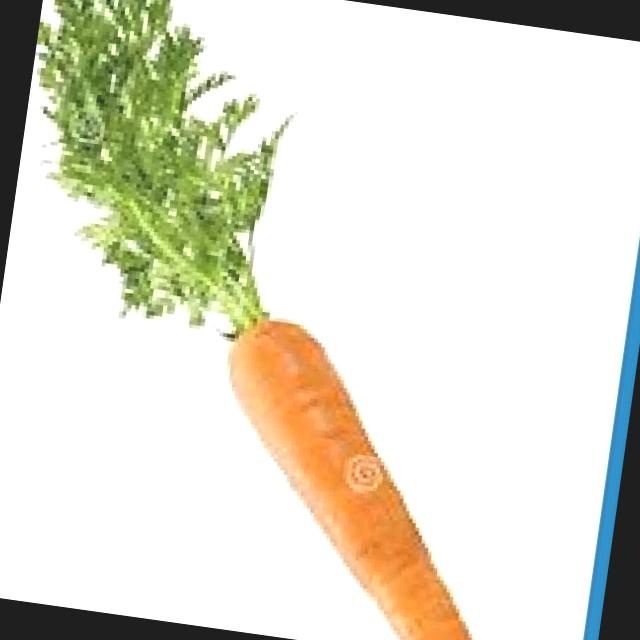carrot: (226, 320, 472, 640)
